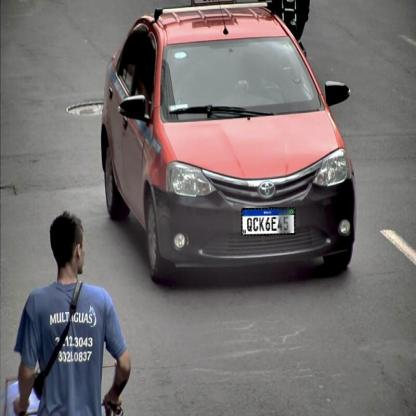PlacaM: (242, 207, 296, 236)
